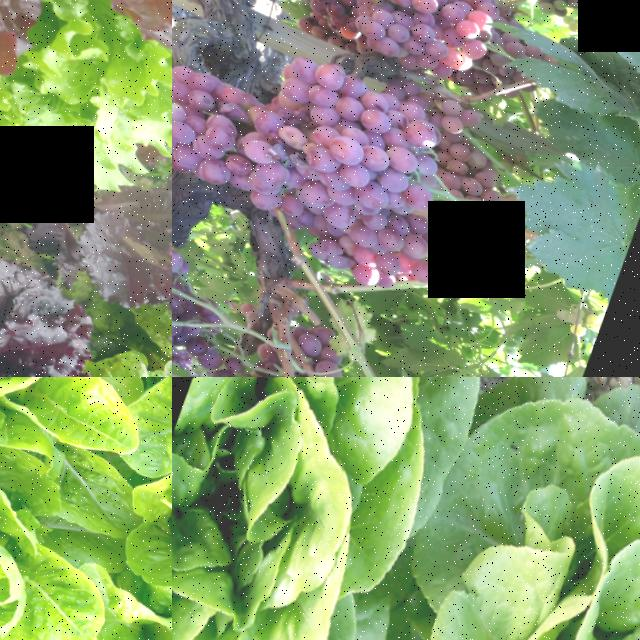grapes: (238, 41, 483, 297), (172, 40, 319, 212), (348, 0, 515, 87)
lettuce: (172, 377, 509, 640), (308, 377, 640, 640), (0, 0, 172, 247), (0, 403, 130, 640), (0, 377, 169, 506), (75, 433, 172, 640)
